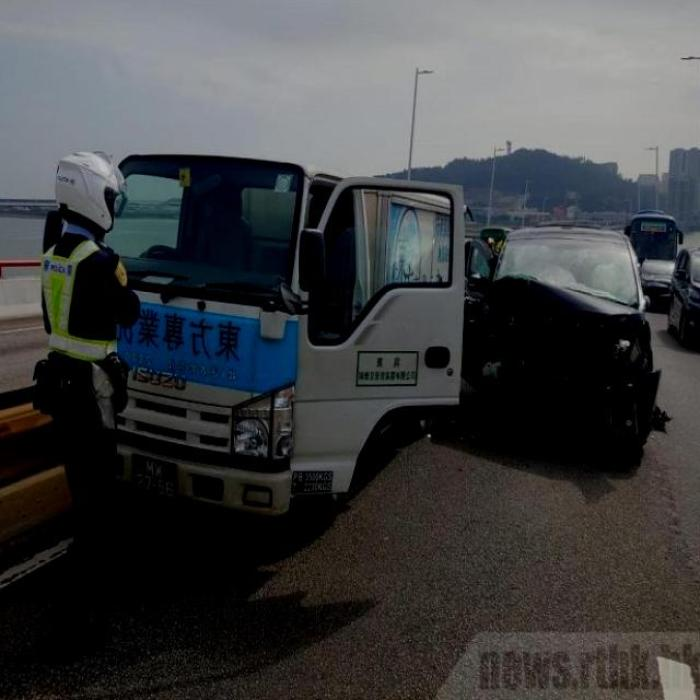Accident: (415, 198, 684, 488)
